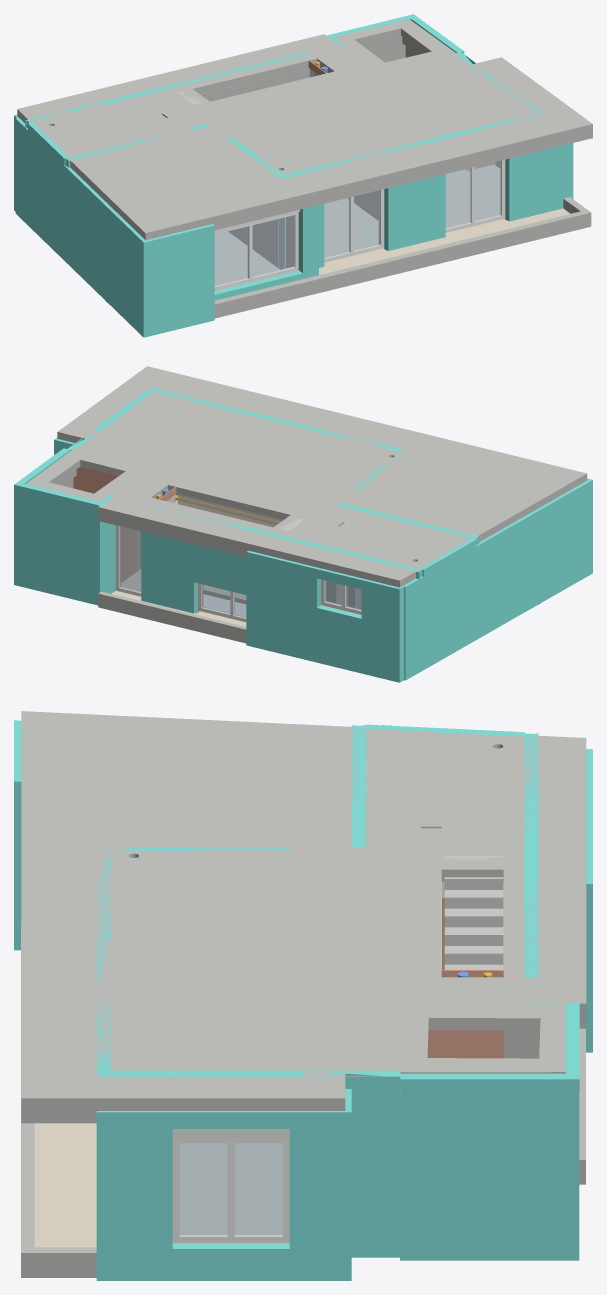
The model's file is HouseEM_AR_F1.glb.
3 renders of one model, top to bottom at view 1: azimuth 30°, elevation 25°; view 2: azimuth 150°, elevation 25°; view 3: azimuth 270°, elevation 25°, orthographic. The views are drawn at different scales.
Visible parts, largest first — view 1: AT-SB01, F1-ET06, F1-FF01, AT-PP01, F1-PP01, F1-ET04, F1-EO07, F1-ET17, F1-ET01, F1-EO06, F1-EO05, F1-ET20 (+15 smaller); view 2: AT-SB01, F1-ET06, F1-ET14, F1-ET07, F1-ET05, AT-PP02, F1-ET18, F1-EO01-SILL-ET, F1-PP02, AT-PP01, F1-EO02-HEAD-ET, F1-ET15 (+18 smaller); view 3: AT-SB01, F1-ET13, F1-FF01, F1-ET02, AT-PP01, F1-ET08, F1-EO04, F1-ET10, F1-ST01, F1-EO04-SILL-ET, F1-PP01, F1-EO04-FR (+17 smaller).
Boxes of the visible parts, x1=… form: AT-SB01: x1=17, y1=19, x2=592, y2=239; F1-ET06: x1=15, y1=117, x2=148, y2=337; F1-FF01: x1=215, y1=165, x2=570, y2=285; AT-PP01: x1=128, y1=57, x2=592, y2=240; F1-PP01: x1=214, y1=197, x2=591, y2=318; F1-ET04: x1=147, y1=224, x2=214, y2=336; F1-EO07: x1=214, y1=215, x2=294, y2=286; F1-ET17: x1=384, y1=174, x2=445, y2=250; F1-ET01: x1=505, y1=144, x2=566, y2=221; F1-EO06: x1=324, y1=190, x2=380, y2=258; F1-EO05: x1=445, y1=160, x2=501, y2=228; F1-ET20: x1=299, y1=205, x2=318, y2=278; AT-SB01: x1=26, y1=366, x2=587, y2=585; F1-ET06: x1=403, y1=478, x2=592, y2=680; F1-ET14: x1=14, y1=491, x2=95, y2=604; F1-ET07: x1=253, y1=552, x2=320, y2=662; F1-ET05: x1=361, y1=579, x2=405, y2=682; AT-PP02: x1=98, y1=505, x2=415, y2=587; F1-ET18: x1=141, y1=531, x2=197, y2=613; F1-EO01-SILL-ET: x1=317, y1=605, x2=361, y2=673; F1-PP02: x1=98, y1=591, x2=246, y2=643; AT-PP01: x1=58, y1=366, x2=586, y2=488; F1-EO02-HEAD-ET: x1=194, y1=544, x2=246, y2=594; F1-ET15: x1=95, y1=511, x2=115, y2=605; AT-SB01: x1=21, y1=711, x2=586, y2=1110; F1-ET13: x1=403, y1=1092, x2=565, y2=1260; F1-FF01: x1=34, y1=1123, x2=282, y2=1247; F1-ET02: x1=96, y1=1111, x2=172, y2=1280; AT-PP01: x1=21, y1=711, x2=345, y2=1123; F1-ET08: x1=289, y1=1106, x2=351, y2=1280; F1-EO04: x1=179, y1=1143, x2=282, y2=1235; F1-ET10: x1=351, y1=1089, x2=396, y2=1257; F1-ST01: x1=444, y1=856, x2=503, y2=969; F1-EO04-SILL-ET: x1=172, y1=1243, x2=289, y2=1280; F1-PP01: x1=21, y1=925, x2=96, y2=1277; F1-EO04-FR: x1=172, y1=1138, x2=289, y2=1242.
Bounding box in the file's own units: 13.46 × 2.9 × 8.4.
